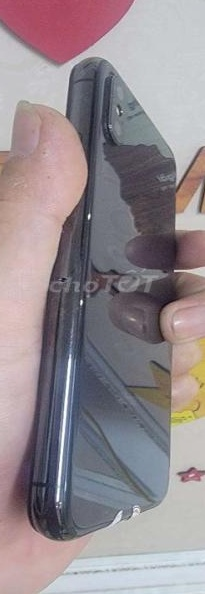scratch: (58, 293, 107, 315), (51, 485, 70, 520), (81, 203, 96, 226)
